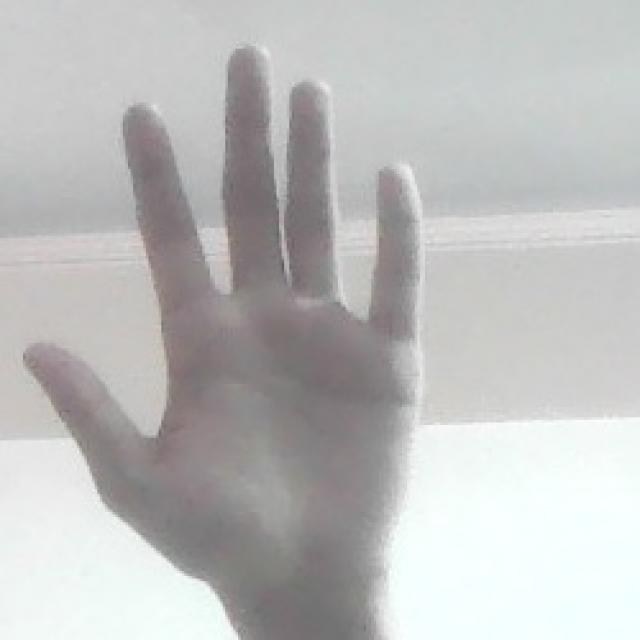Numeric-5: (26, 46, 423, 602)
